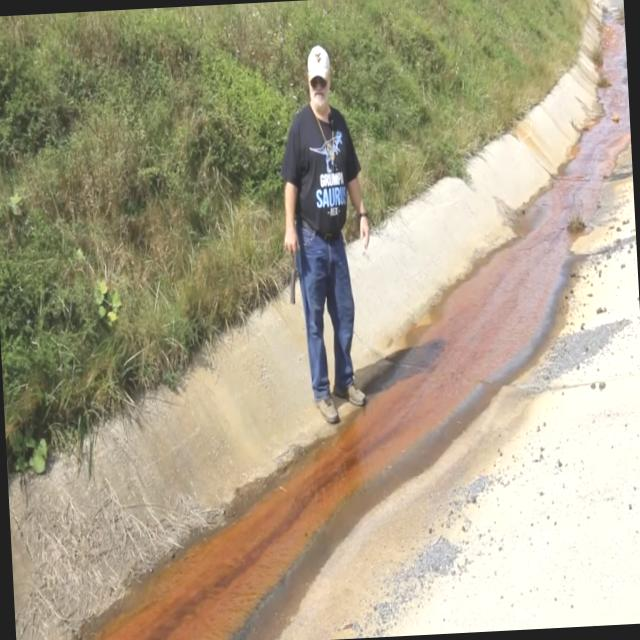yellow_boy: (97, 11, 631, 640)
